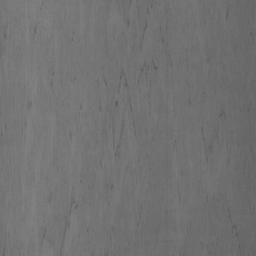Silk spot: (0, 0, 224, 256), (0, 2, 65, 72), (200, 109, 240, 163), (199, 189, 240, 240), (0, 224, 29, 256), (0, 112, 27, 144)
